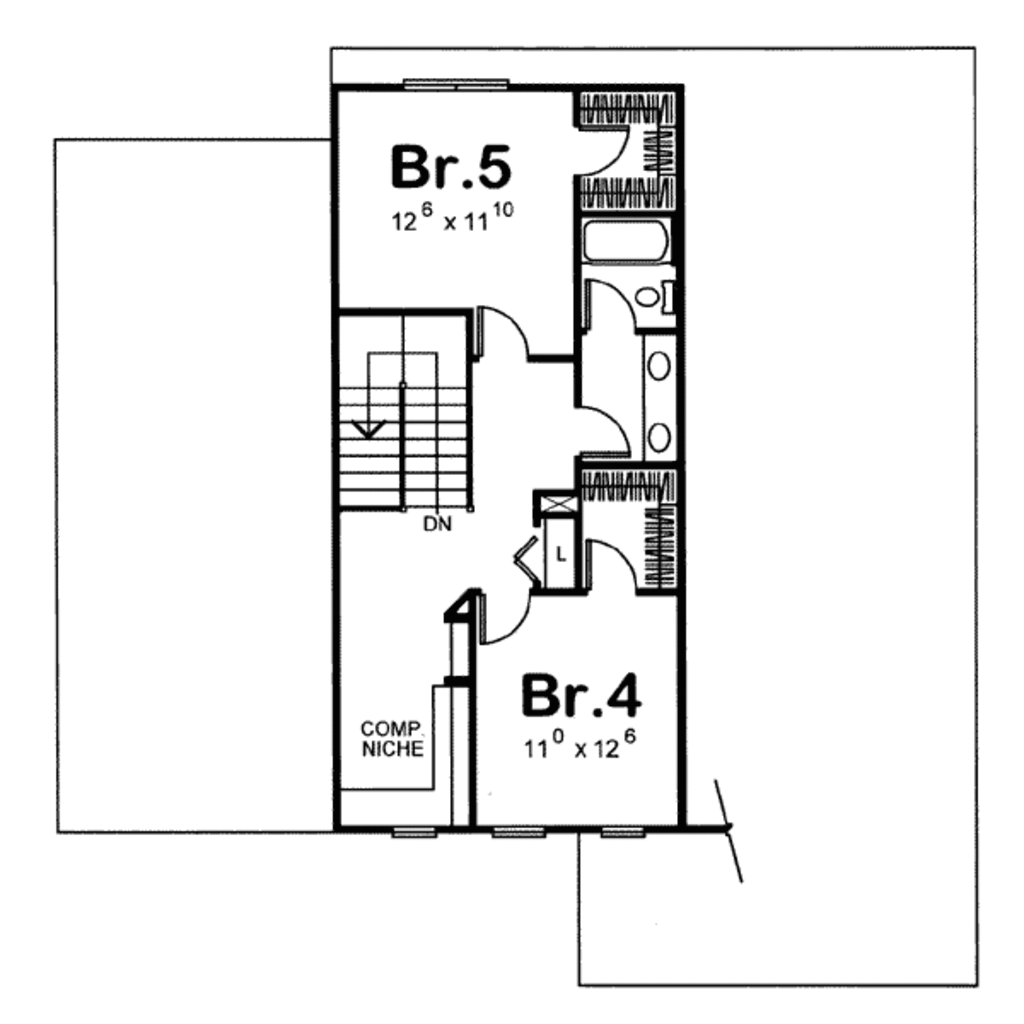door: (578, 528, 639, 592), (575, 397, 639, 458), (472, 591, 541, 647), (577, 121, 630, 177), (586, 278, 636, 333), (473, 305, 530, 353)
large_sink: (636, 274, 677, 316)
small_sink: (639, 339, 678, 464)
stairs: (333, 303, 477, 519)
tub: (577, 216, 672, 266)
window: (403, 78, 511, 97), (603, 821, 655, 842), (389, 824, 445, 842), (491, 821, 545, 839)
